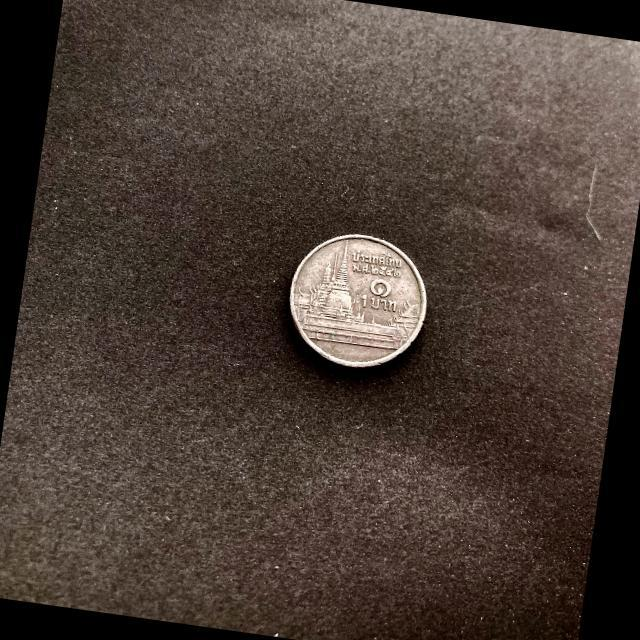1 Bath: (286, 231, 430, 372)
